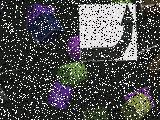Left: (79, 3, 137, 62)
